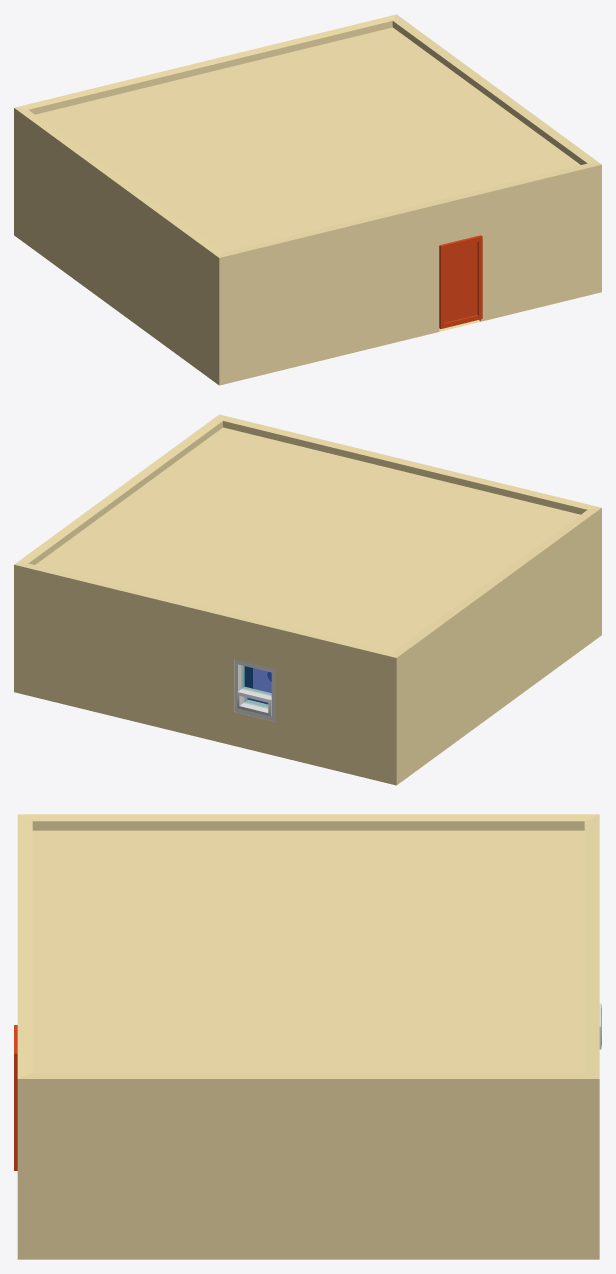
The model's file is Daily_Routine_Room.fbx.
The picture shows the model from 3 angles, top to bottom: view 1: azimuth 30°, elevation 25°; view 2: azimuth 150°, elevation 25°; view 3: azimuth 270°, elevation 25°; orthographic projection. The views are drawn at different scales.
Visible parts, largest first — view 1: floor1, wall2, wall1, door; view 2: wall1, floor1, wall2, window, glass; view 3: floor1, wall2, wall1, door.
Part boxes in pixels (box(x1,y1,x2,y2)): floor1: box(35, 27, 580, 252); wall2: box(219, 14, 601, 385); wall1: box(14, 14, 396, 384); door: box(439, 235, 482, 328); wall1: box(14, 508, 601, 785); floor1: box(35, 427, 580, 652); wall2: box(14, 414, 601, 564); window: box(234, 659, 275, 721); glass: box(242, 666, 271, 708); floor1: box(32, 830, 584, 1073); wall2: box(17, 814, 599, 1259); wall1: box(18, 814, 599, 1078); door: box(14, 1025, 17, 1170).
Size of the model in its own units: 112 by 35.8 by 105.
4 materials, 1 textured.
